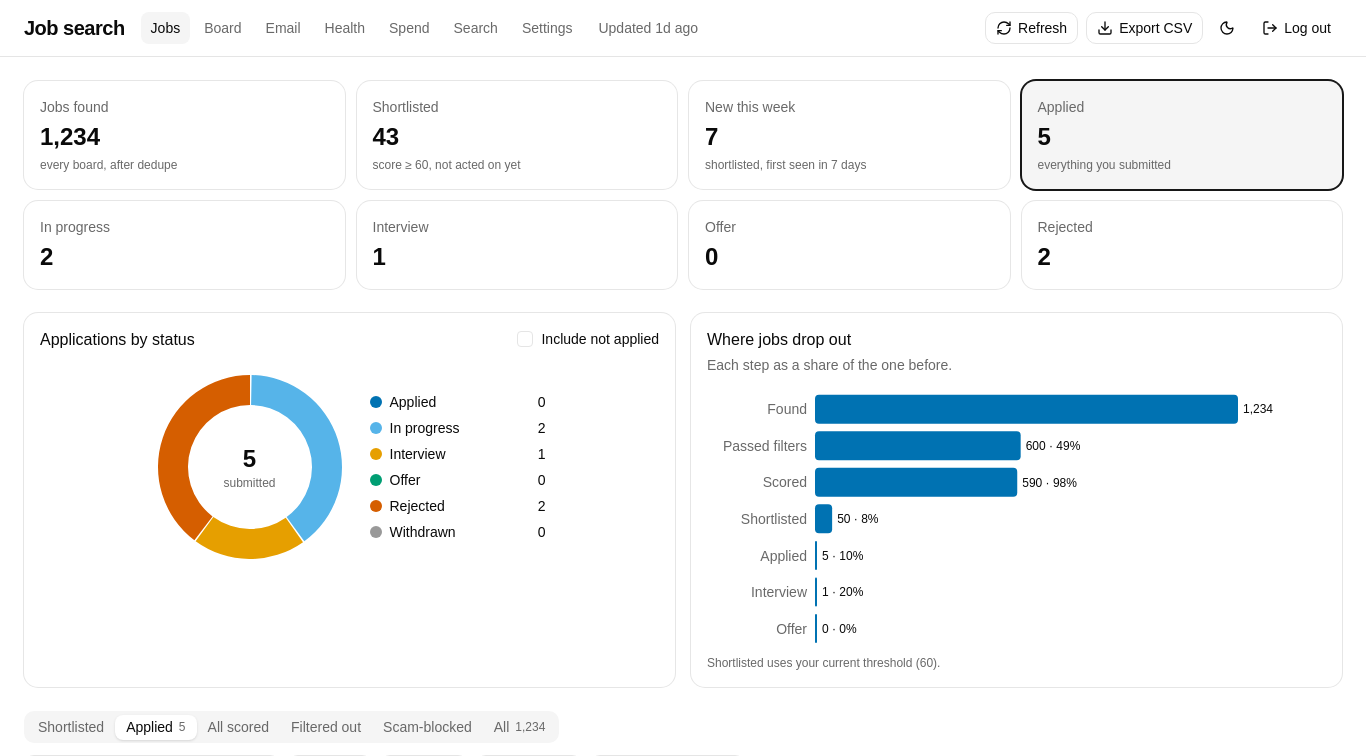
Test: AppHeader › logs out with the write header and goes to the login page
Click the button "Log out" at (1297, 28), box [1251, 12, 1342, 44]
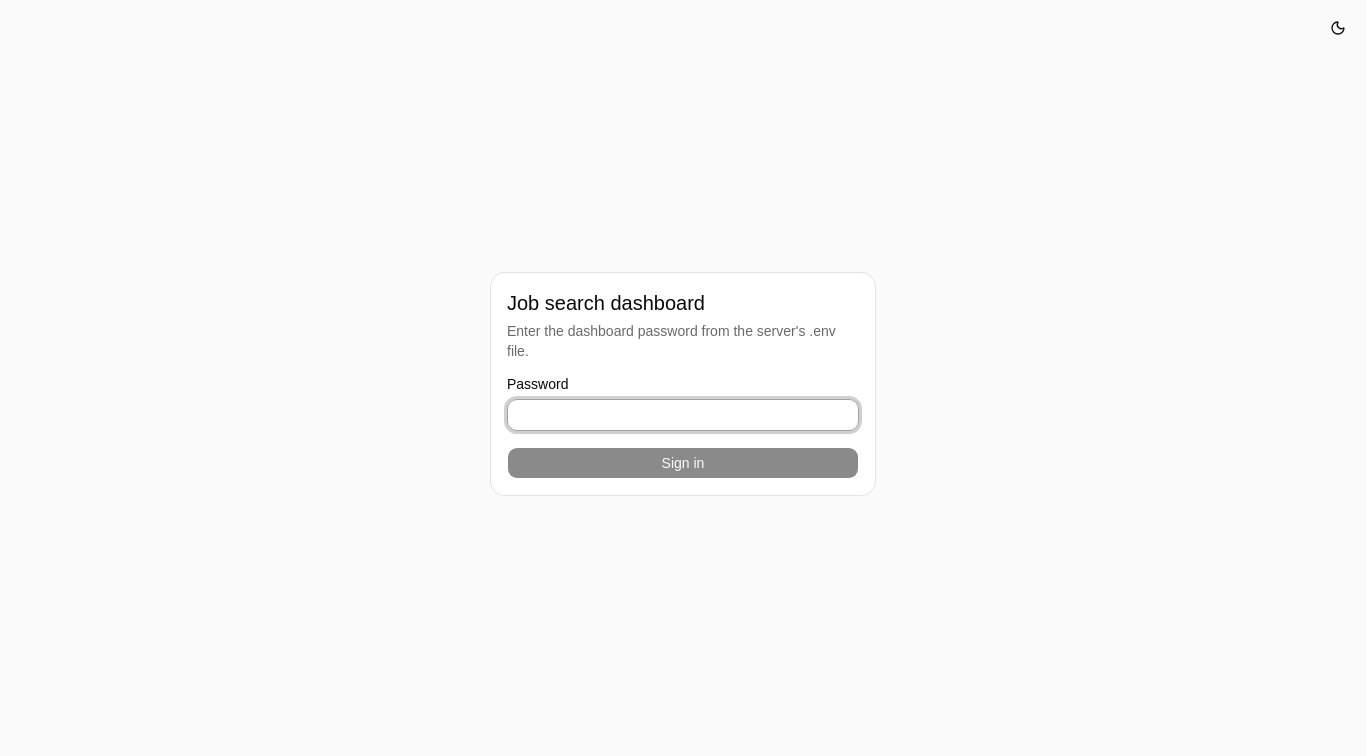
Check: the password field labelled "Password" is shown, box [507, 399, 859, 431]
